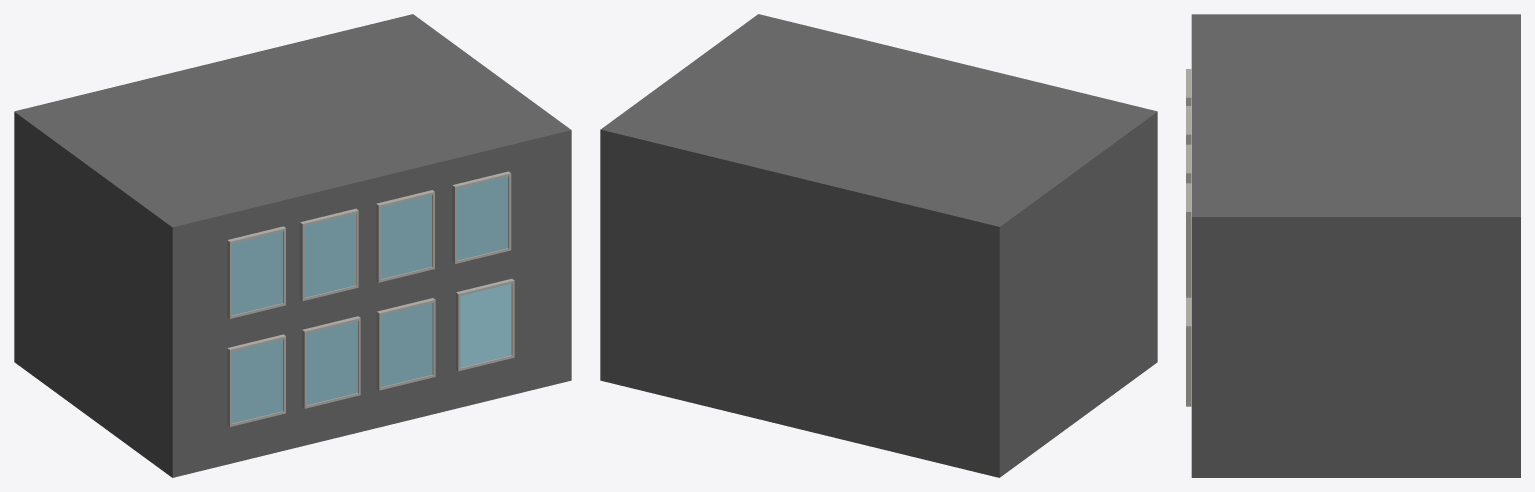
Rendered from Large_house_new.fbx.
3 renders of one model, left to right at view 1: azimuth 30°, elevation 25°; view 2: azimuth 150°, elevation 25°; view 3: azimuth 270°, elevation 25°, orthographic. The views are drawn at different scales.
Visible parts, largest first — view 1: Cube, Plane.006, Plane.005, Plane.004, Plane.002, Plane.007, Plane.003, Plane.001, Plane.000; view 2: Cube; view 3: Cube, Plane.007, Plane.005.
Boxes of the visible parts, x1,y1,x2,y2 form: Cube: (14, 14, 571, 477); Plane.006: (376, 298, 435, 390); Plane.005: (452, 171, 511, 263); Plane.004: (302, 316, 360, 408); Plane.002: (300, 208, 358, 301); Plane.007: (456, 278, 514, 371); Plane.003: (376, 190, 434, 282); Plane.001: (227, 226, 285, 318); Plane.000: (227, 334, 285, 426); Cube: (600, 14, 1157, 477); Cube: (1191, 14, 1520, 477); Plane.007: (1186, 297, 1191, 406); Plane.005: (1186, 183, 1191, 292).
Bounding box in the file's own units: 1093 × 657 × 763.
